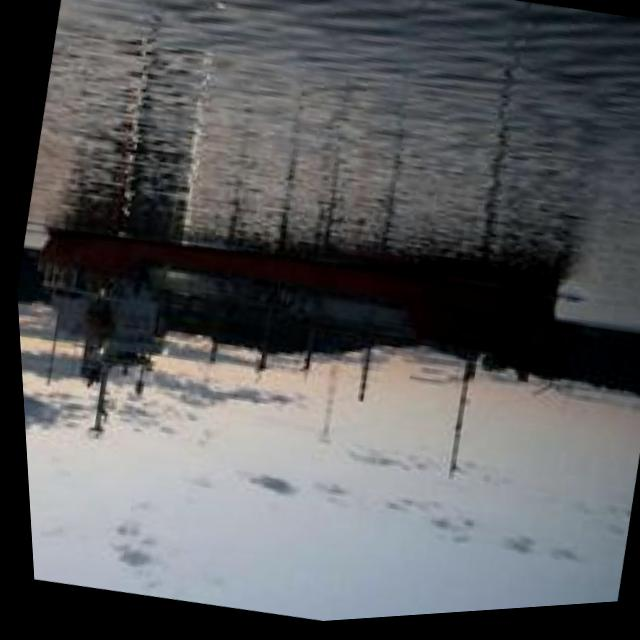ship2: (35, 229, 549, 439)
